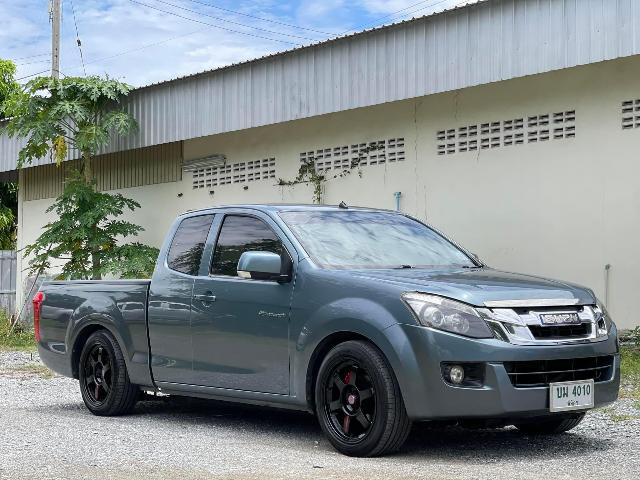pickup-truck: (26, 190, 630, 465)
